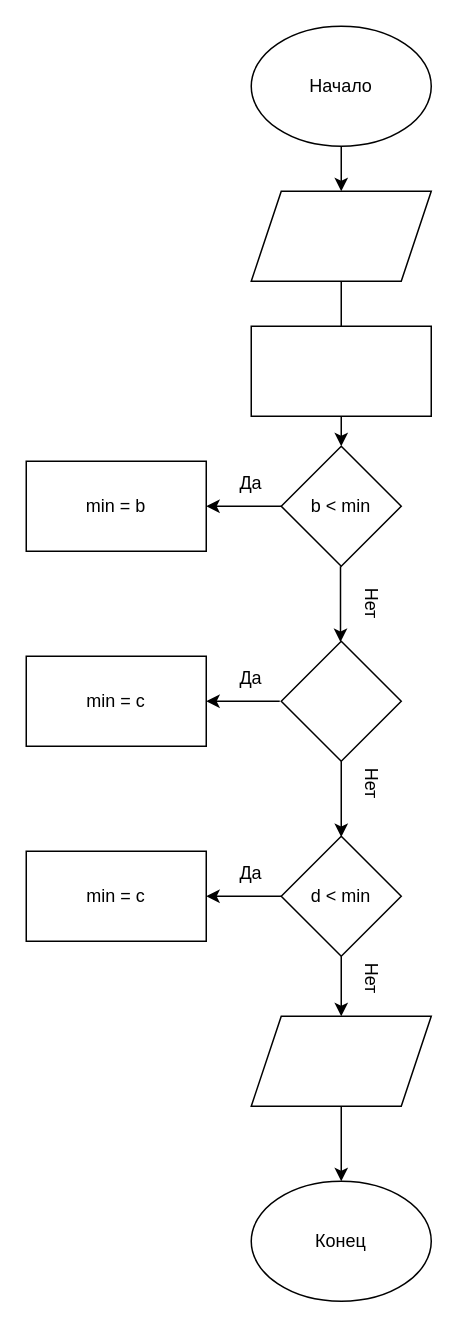
This 458x1328 diagram has some shape labels left out. The centre of each missing label's shape, as x and y in pixels:
a, d, c, d: [340,235]
c < min: [340,700]
min = a: [340,370]
Вывести min: [340,1060]
